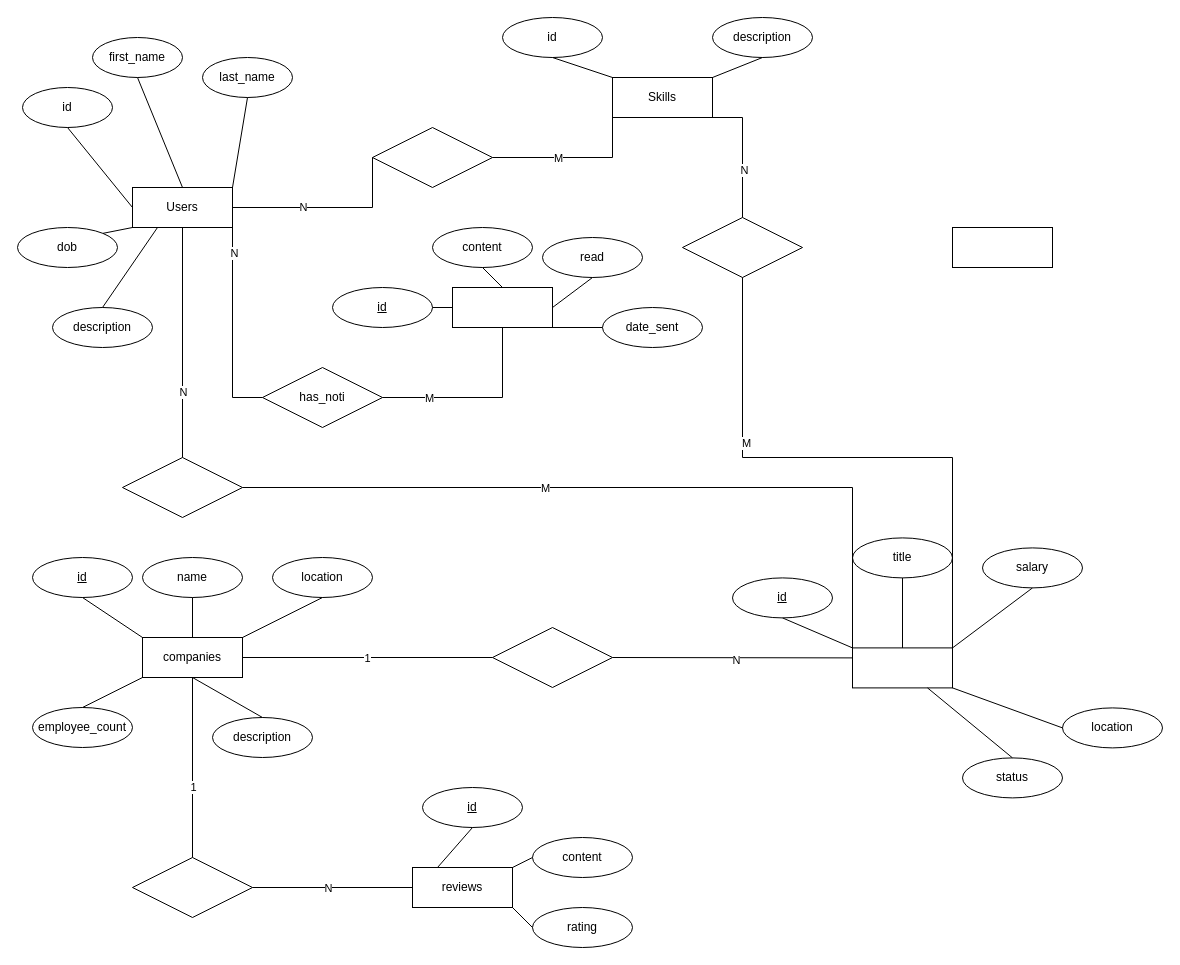
Some shapes in this 1180 by 965 pixel diagram are drawn without their labels. Here are the shapes that lost their labels. From the top down, the centre of each, then its label:
At point (432, 157): "has_skills".
At point (742, 247): "requires".
At point (1002, 247): "applications".
At point (502, 307): "notifications".
At point (182, 487): "has_worked_in".
At point (552, 657): "has".
At point (902, 667): "jobs".
At point (192, 887): "has_review".
